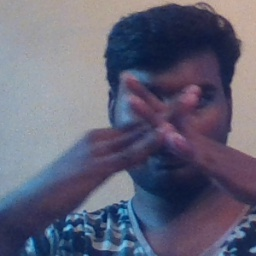W: (108, 71, 222, 180)
